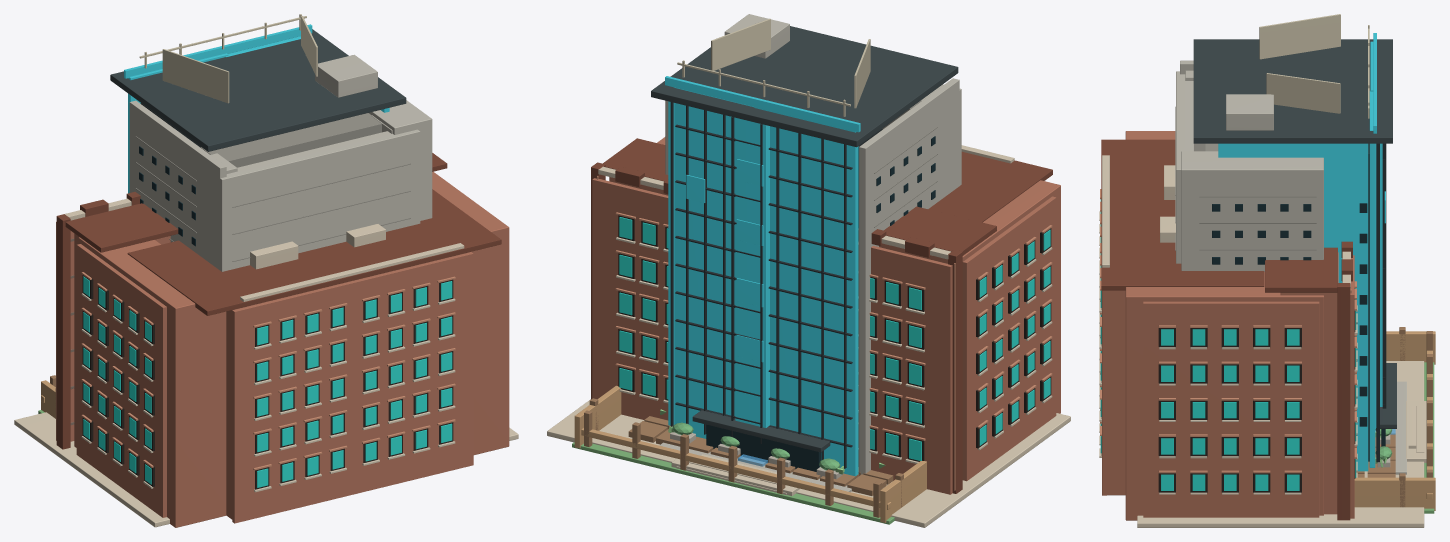
The model's file is medieval-props.glb.
The picture shows the model from 3 angles, left to right: view 1: azimuth 30°, elevation 25°; view 2: azimuth 150°, elevation 25°; view 3: azimuth 270°, elevation 25°; orthographic projection. The views are drawn at different scales.
Visible parts, largest first — view 1: Armacost_RearFacadeSkin, BabarBlock_RearBeigeWing, BabarBlock_RoofSlab, Armacost_LeftRearWing, Armacost_LeftFacadeSkin, Armacost_RearRoofDeck, Armacost_RightRearWing, BabarBlock_LeftConcreteReturn, BabarBlock_RearInteriorBlocker, Armacost_MainRoofDeck, Armacost_FrontVerticalPier_-8.88, Armacost_SitePlinth (+10 smaller); view 2: Armacost_FrontFacadeSkin, BabarBlock_FrontGlassLeft, BabarBlock_RoofSlab, BabarBlock_FrontGlassRight, Armacost_LeftFacadeSkin, BabarBlock_LeftConcreteReturn, BabarBlock_CentralSteppedGlassBay, Armacost_SitePlinth, Armacost_MainRoofDeck, Armacost_RearRoofDeck, Armacost_LeftRearWing, Farm_Fence_Rail (+29 smaller); view 3: Armacost_RightFacadeSkin, BabarBlock_RoofSlab, BabarBlock_RightBeigeWing, Armacost_RearRoofDeck, BabarBlock_RightEdgeGlassReturn, Armacost_RightRearWing, Armacost_SitePlinth, Armacost_RearBlock, Armacost_FrontVerticalPier_+8.88, Armacost_RightMainBlock, BabarBlock_RoofCraneArmLeft, Armacost_MainRoofDeck (+23 smaller).
Boxes of the visible parts, box(x1,y1,x2,y2) form: Armacost_RearFacadeSkin: box(232, 252, 473, 523); BabarBlock_RearBeigeWing: box(220, 129, 420, 271); BabarBlock_RoofSlab: box(110, 29, 406, 151); Armacost_LeftRearWing: box(78, 237, 226, 527); Armacost_LeftFacadeSkin: box(76, 244, 166, 517); Armacost_RearRoofDeck: box(127, 189, 501, 315); Armacost_RightRearWing: box(432, 171, 509, 454); BabarBlock_LeftConcreteReturn: box(129, 100, 226, 270); BabarBlock_RearInteriorBlocker: box(200, 113, 381, 167); Armacost_MainRoofDeck: box(65, 153, 447, 252); Armacost_FrontVerticalPier_-8.88: box(56, 214, 70, 449); Armacost_SitePlinth: box(14, 412, 518, 527); Armacost_FrontFacadeSkin: box(592, 178, 952, 494); BabarBlock_FrontGlassLeft: box(754, 107, 858, 476); BabarBlock_RoofSlab: box(651, 26, 958, 147); BabarBlock_FrontGlassRight: box(674, 87, 753, 438); Armacost_LeftFacadeSkin: box(962, 196, 1056, 481); BabarBlock_LeftConcreteReturn: box(859, 78, 959, 474); BabarBlock_CentralSteppedGlassBay: box(735, 117, 769, 427); Armacost_SitePlinth: box(547, 399, 1070, 527); Armacost_MainRoofDeck: box(603, 138, 996, 255); Armacost_RearRoofDeck: box(928, 151, 1052, 222); Armacost_LeftRearWing: box(962, 180, 1060, 413); Farm_Fence_Rail: box(581, 428, 891, 509); Armacost_RightFacadeSkin: box(1143, 301, 1319, 517); BabarBlock_RoofSlab: box(1193, 39, 1392, 143); BabarBlock_RightBeigeWing: box(1181, 151, 1323, 271); Armacost_RearRoofDeck: box(1101, 139, 1264, 290); BabarBlock_RightEdgeGlassReturn: box(1218, 143, 1368, 471); Armacost_RightRearWing: box(1125, 272, 1323, 520); Armacost_SitePlinth: box(1137, 361, 1424, 527); Armacost_RearBlock: box(1107, 290, 1125, 495); Armacost_FrontVerticalPier_+8.88: box(1337, 283, 1350, 520); Armacost_RightMainBlock: box(1280, 252, 1338, 514); BabarBlock_RoofCraneArmLeft: box(1259, 14, 1340, 59); Armacost_MainRoofDeck: box(1265, 247, 1337, 292).
Bounding box in the file's own units: 18.8 × 18.83 × 14.76.
